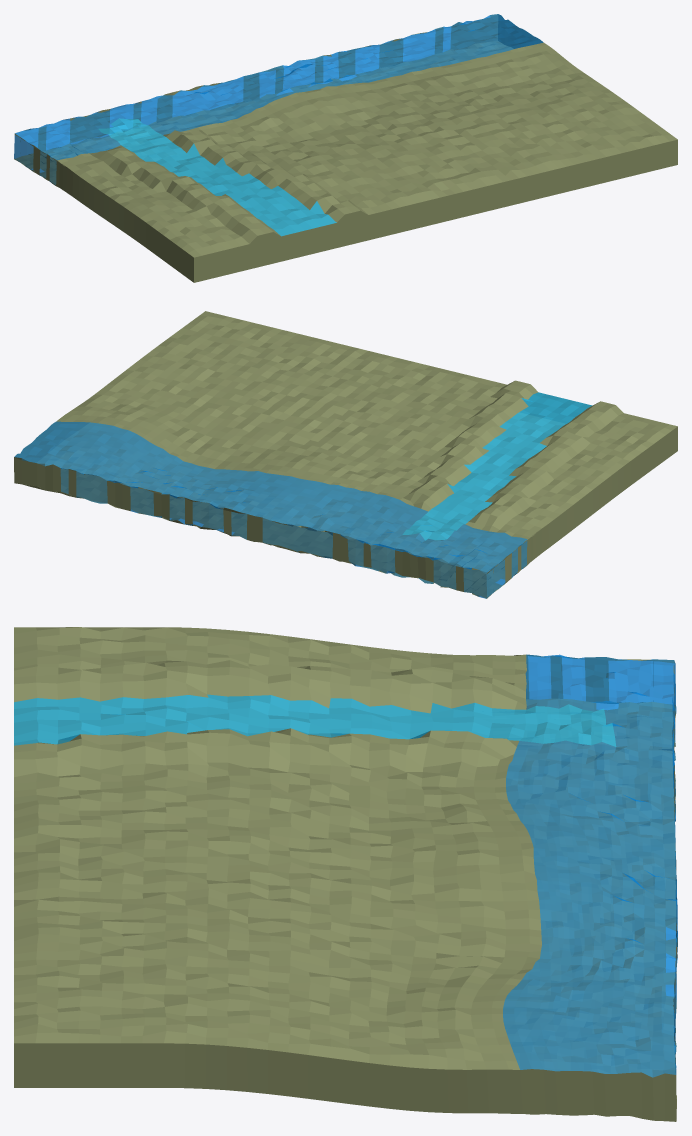
Rendered from SandyBeach.fbx.
The picture shows the model from 3 angles, top to bottom: view 1: azimuth 30°, elevation 25°; view 2: azimuth 150°, elevation 25°; view 3: azimuth 270°, elevation 25°; orthographic projection. The views are drawn at different scales.
Parts seen in each view (by area): view 1: Plane; view 2: Plane; view 3: Plane.
Part boxes in pixels (x1,y1,x2,y2): Plane: (14, 14, 677, 282); Plane: (14, 311, 677, 598); Plane: (14, 627, 677, 1121).
Size of the model in its own units: 1632 by 162 by 1079.
